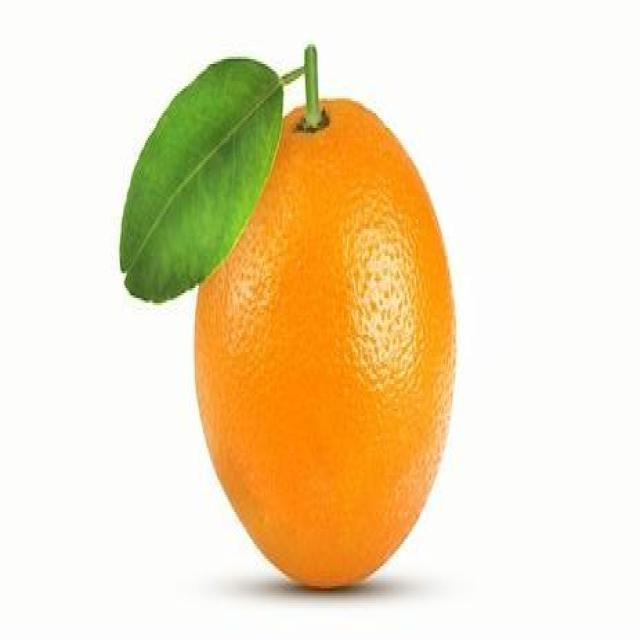orange: (192, 91, 456, 589)
